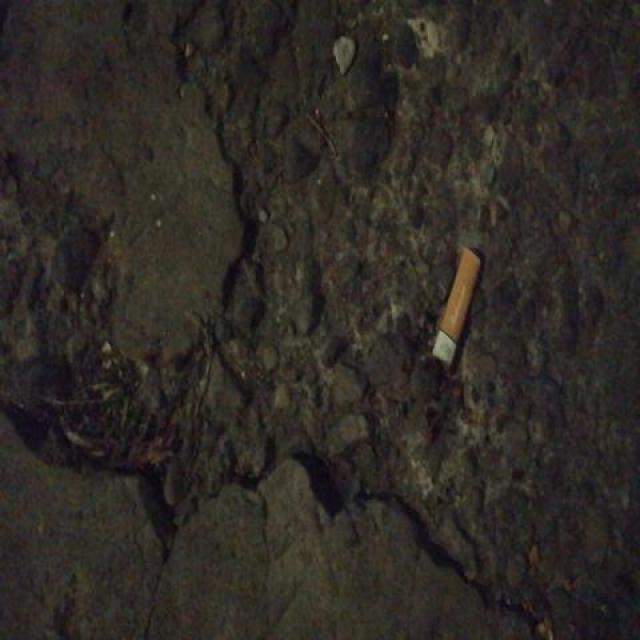non-organic waste: (429, 243, 484, 370)
